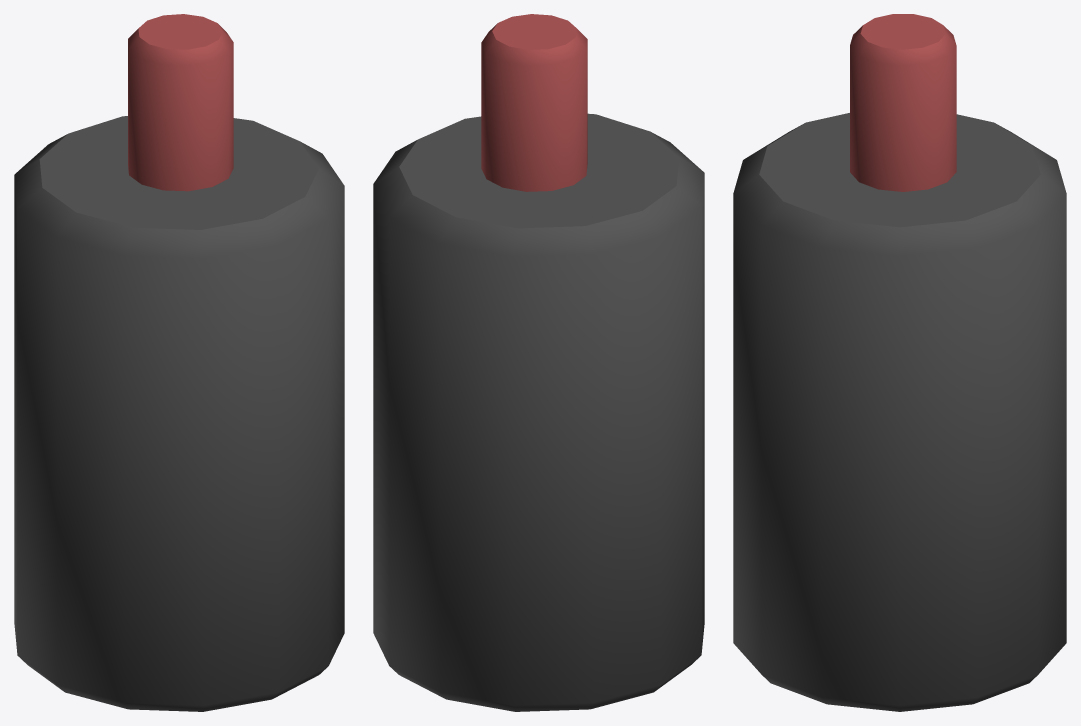
File: vial.FBX
The picture shows the model from 3 angles, left to right: view 1: azimuth 30°, elevation 25°; view 2: azimuth 150°, elevation 25°; view 3: azimuth 270°, elevation 25°; orthographic projection.
Parts seen in each view (by area): view 1: vial; view 2: vial; view 3: vial.
Part boxes in pixels (bbox=[...]): vial: bbox=[14, 14, 344, 711]; vial: bbox=[373, 14, 704, 711]; vial: bbox=[733, 14, 1066, 711].
Size of the model in its own units: 1.94 by 3.98 by 1.95.
